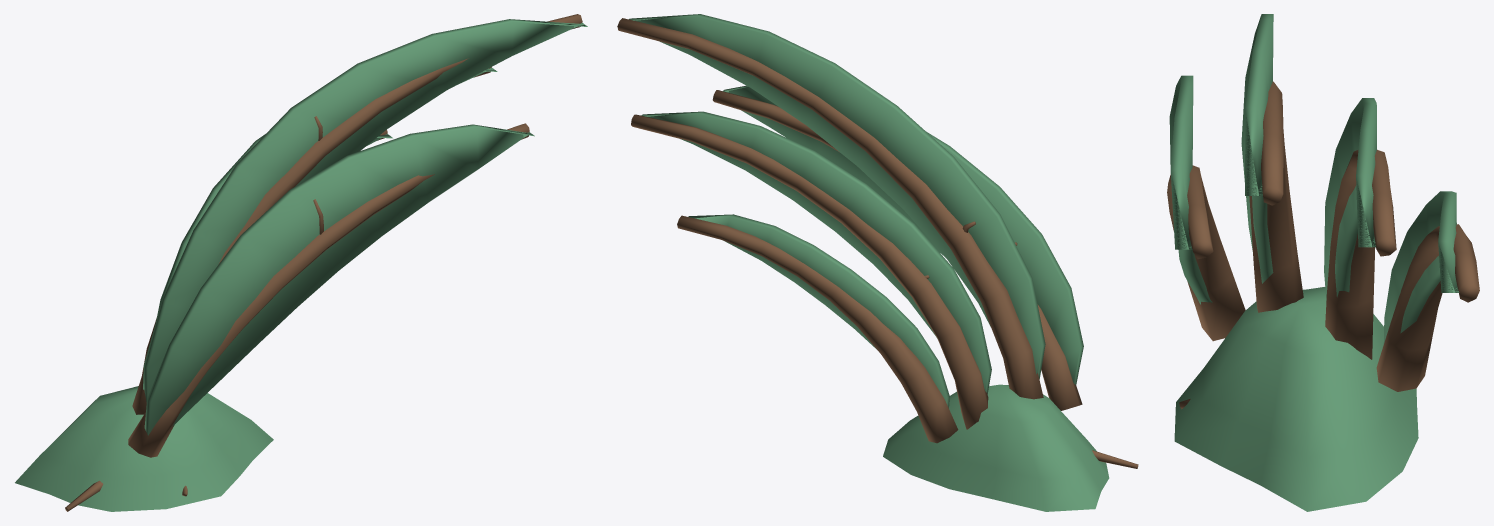
File: flora_wind_fan_a.glb
3 renders of one model, left to right at view 1: azimuth 30°, elevation 25°; view 2: azimuth 150°, elevation 25°; view 3: azimuth 270°, elevation 25°, orthographic. The views are drawn at different scales.
Visible parts, largest first — view 1: flora_wind_fan_a_lod0; view 2: flora_wind_fan_a_lod0; view 3: flora_wind_fan_a_lod0.
Part boxes in pixels (bbox=[...]): flora_wind_fan_a_lod0: bbox=[15, 14, 587, 511]; flora_wind_fan_a_lod0: bbox=[617, 14, 1138, 511]; flora_wind_fan_a_lod0: bbox=[1167, 14, 1479, 511].
Size of what is drawn, in the model's own units: 4.18 by 2.86 by 1.43.
